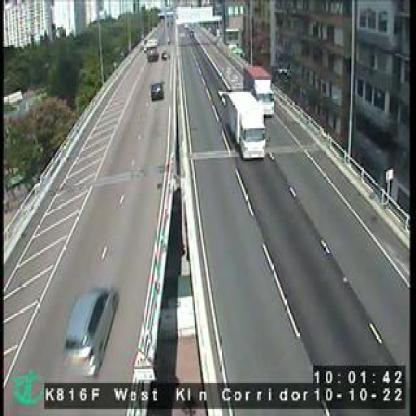Car: (61, 284, 118, 374), (151, 80, 164, 100), (163, 50, 171, 59)
Truck: (222, 87, 266, 155), (246, 66, 272, 117), (146, 38, 159, 59)
